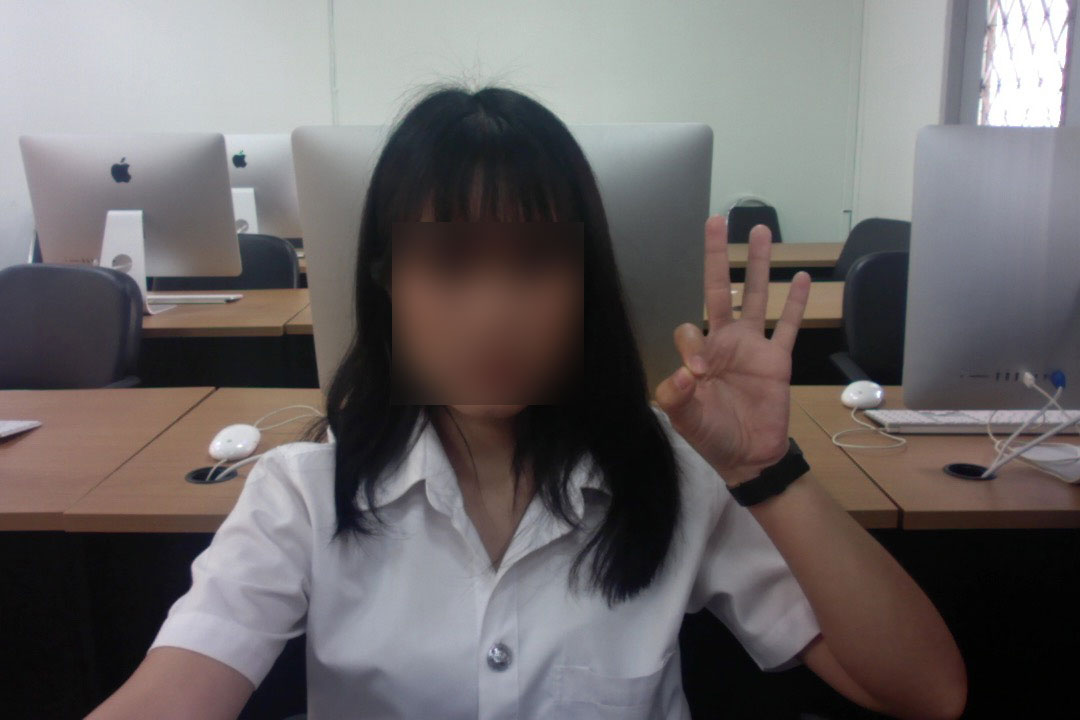for: (625, 191, 835, 516)
